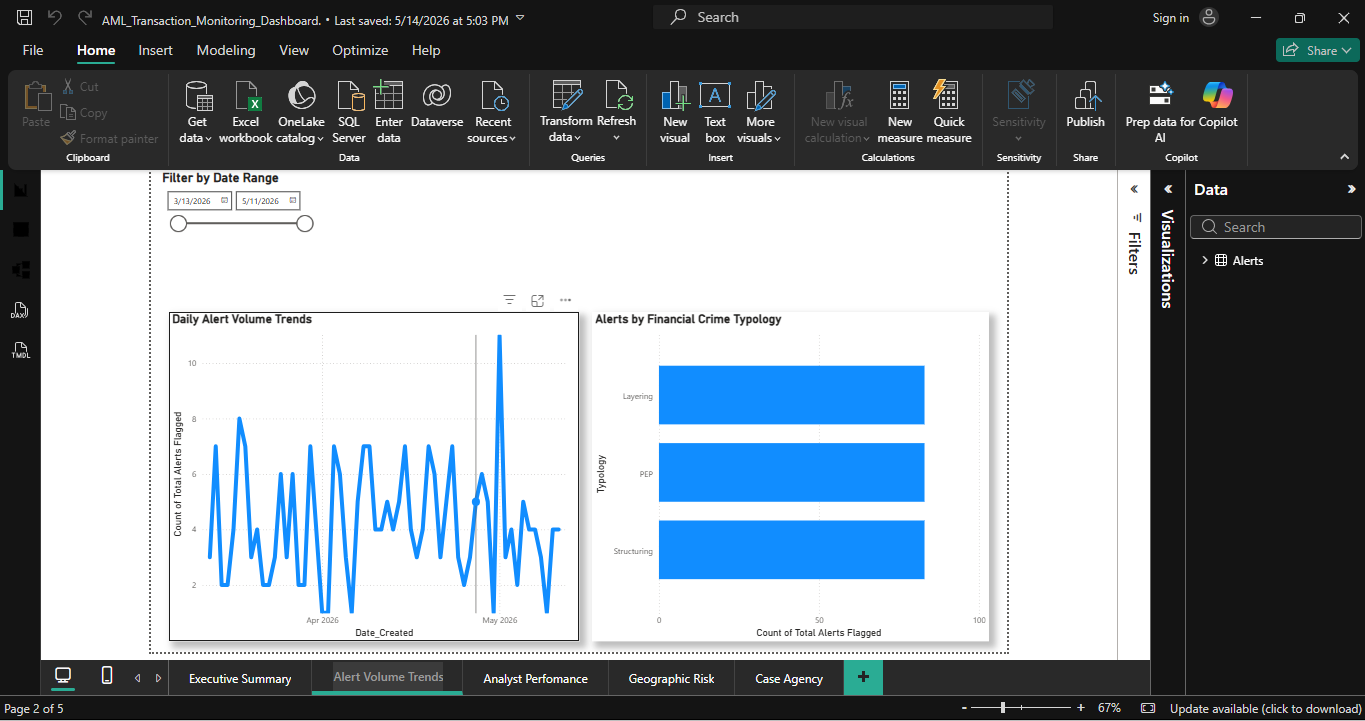

This screenshot's page, from the dashboard's own definition file:
{"tool":"powerbi","page":{"name":"Alert Volume Trends","canvas":[1280,720],"ordinal":1},"visuals":[{"type":"lineChart","title":"Daily Alert Volume Trends","fields":{"Y":["CountNonNull(Alerts.Alert_ID)"],"Category":["Alerts.Date_Created"]},"box":[26.9,211.7,613.1,492.2],"z":0},{"type":"clusteredBarChart","title":"Alerts by Financial Crime Typology","fields":{"Category":["Alerts.Typology"],"Y":["CountNonNull(Alerts.Alert_ID)"]},"box":[658.5,211.7,593,492.2],"z":1000},{"type":"slicer","title":"Filter by Date Range","fields":{"Values":["Alerts.Date_Created"]},"box":[11.8,0,238.5,120.9],"z":2000}]}

Visuals, with their boxes on the page's 1280x720 design canvas (x1, y1, x2, y2). These are canvas units, not pixel positions in the 1365x721 screenshot, which may show the page scaled, cropped or inside an application window:
"Daily Alert Volume Trends" lineChart: (left=27, top=212, right=640, bottom=704)
"Alerts by Financial Crime Typology" clusteredBarChart: (left=658, top=212, right=1252, bottom=704)
"Filter by Date Range" slicer: (left=12, top=0, right=250, bottom=121)
